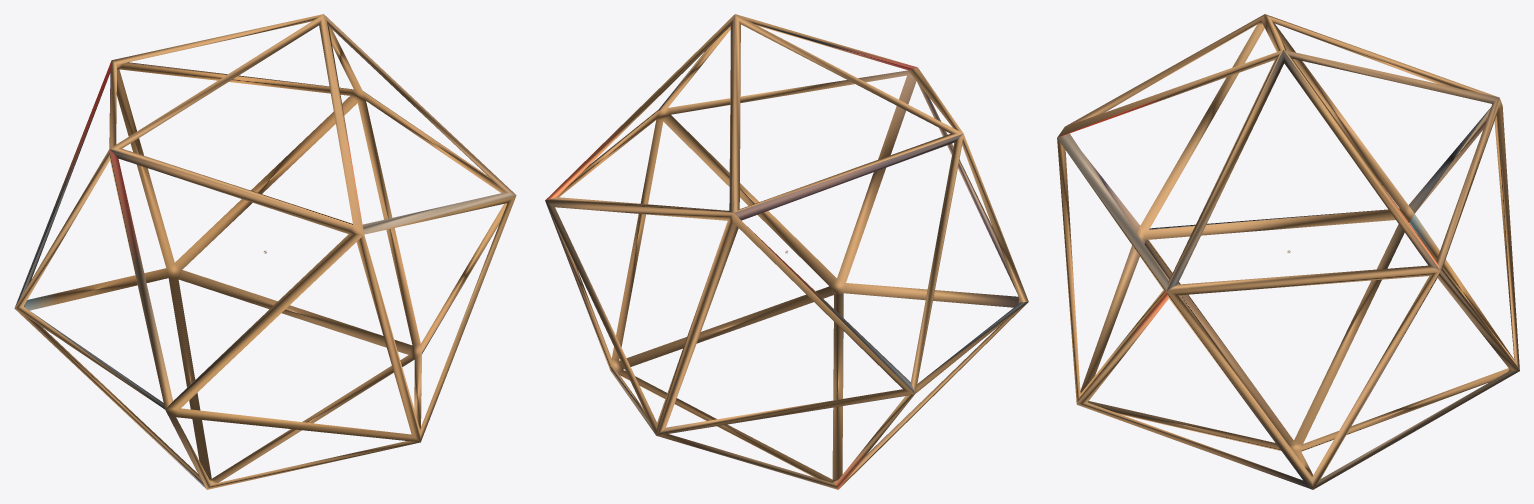
Rendered from dyson_sphere.fbx.
3 views of the same model, side by side, from view 1: azimuth 30°, elevation 25°; view 2: azimuth 150°, elevation 25°; view 3: azimuth 270°, elevation 25° (orthographic). The views are drawn at different scales.
Parts seen in each view (by area): view 1: Icosphere.002; view 2: Icosphere.002; view 3: Icosphere.002.
Boxes of the visible parts, left/top/right/bottom form: Icosphere.002: left=14, top=14, right=516, bottom=489; Icosphere.002: left=545, top=14, right=1028, bottom=489; Icosphere.002: left=1057, top=14, right=1519, bottom=489.
Size of the model in its own units: 729 by 827 by 755.
